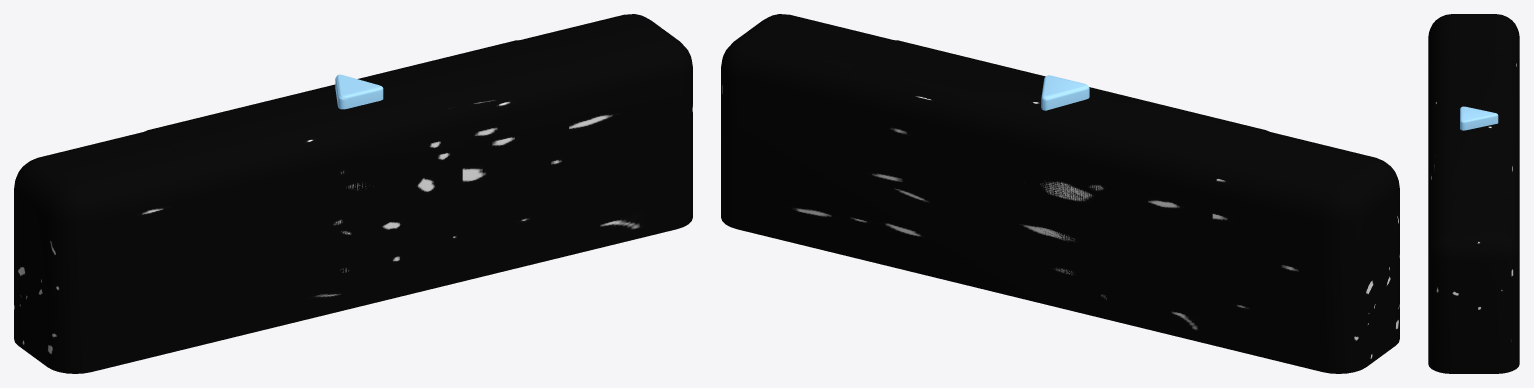
The model's file is Door.fbx.
The picture shows the model from 3 angles, left to right: view 1: azimuth 30°, elevation 25°; view 2: azimuth 150°, elevation 25°; view 3: azimuth 270°, elevation 25°; orthographic projection. The views are drawn at different scales.
Parts seen in each view (by area): view 1: Door; view 2: Door; view 3: Door.
Boxes of the visible parts, x1,y1,x2,y2 form: Door: (14, 14, 692, 373); Door: (721, 14, 1399, 373); Door: (1428, 14, 1519, 373).
Size of the model in its own units: 603 by 173 by 99.7.
2 materials, 1 textured.
